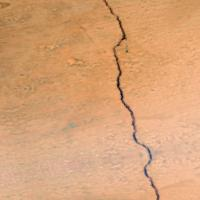crack: (86, 0, 174, 199)
